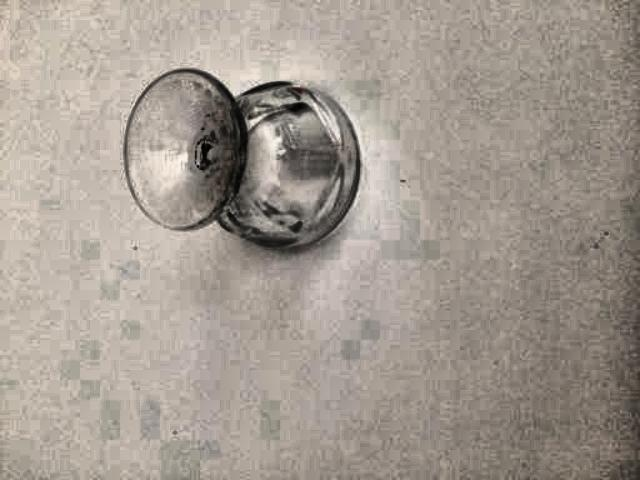Almennt: (115, 65, 369, 286)
